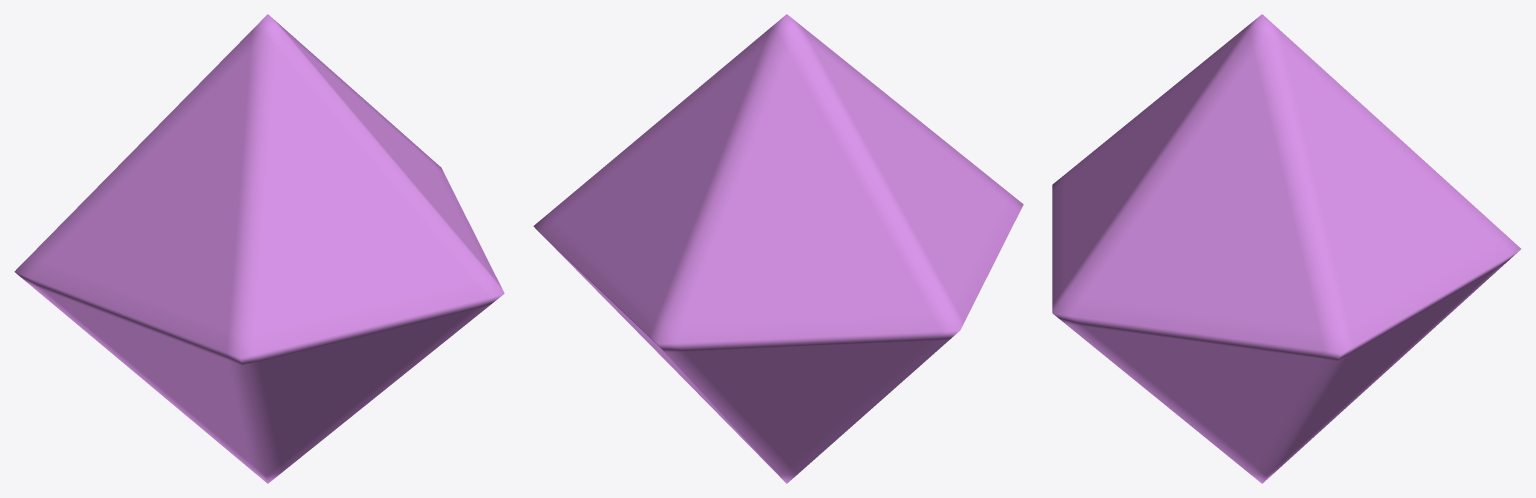
3 renders of one model, left to right at view 1: azimuth 30°, elevation 25°; view 2: azimuth 150°, elevation 25°; view 3: azimuth 270°, elevation 25°, orthographic.
Parts seen in each view (by area): view 1: Cone.001; view 2: Cone.001; view 3: Cone.001.
Part boxes in pixels (x1,y1,x2,y2): Cone.001: [14, 14, 504, 483]; Cone.001: [533, 14, 1023, 483]; Cone.001: [1052, 14, 1520, 483].
Size of the model in its own units: 380 by 400 by 362.
